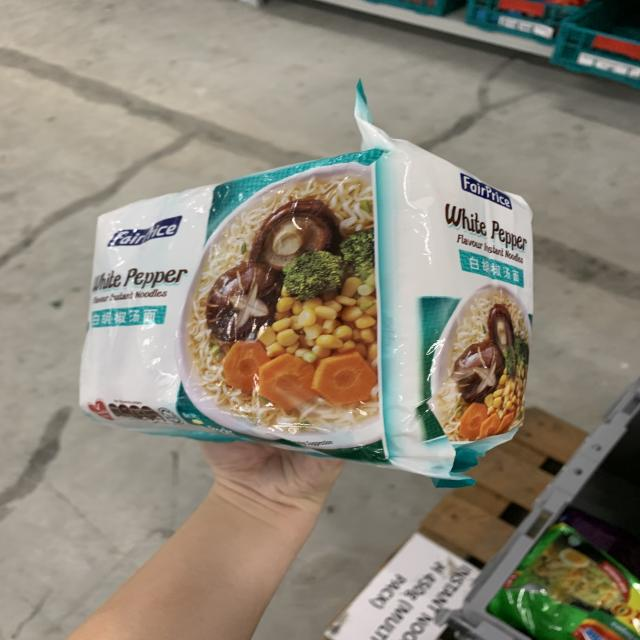object_name: (86, 176, 522, 455)
